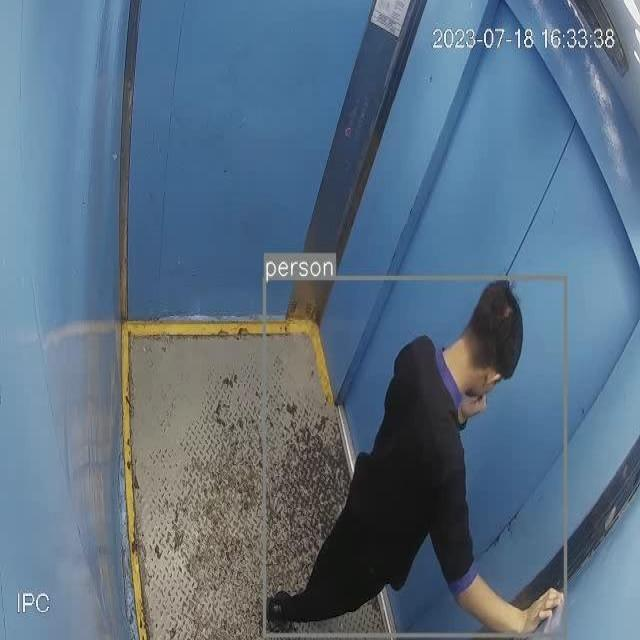person: (267, 277, 563, 635)
